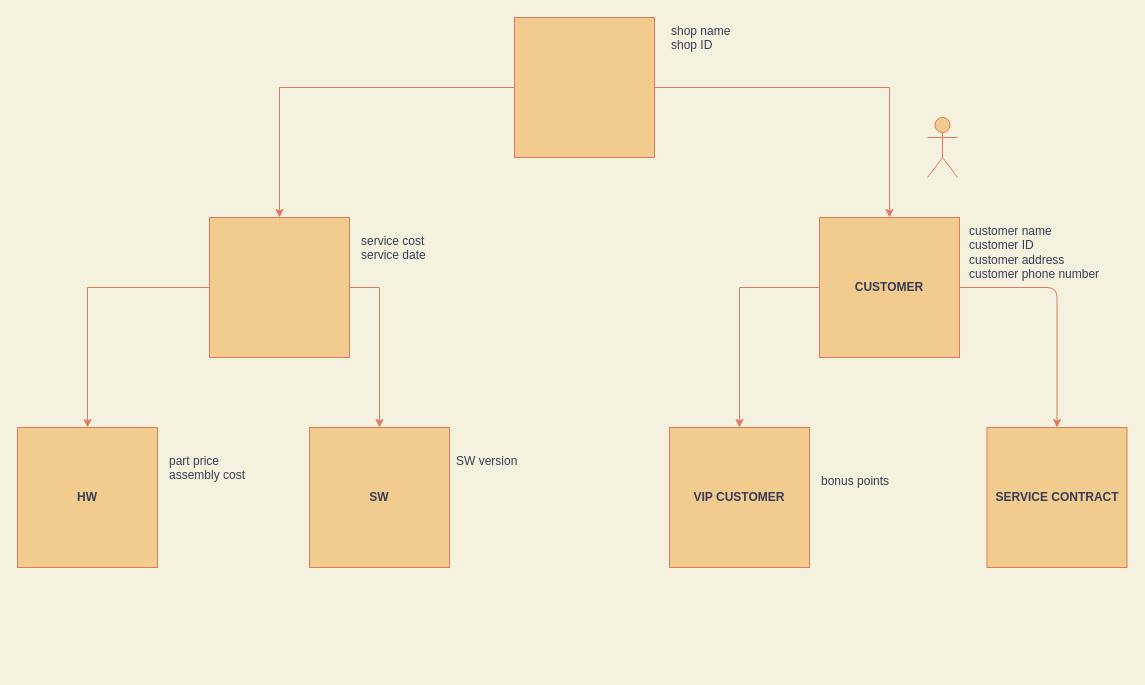
This 1145x685 diagram has some shape labels left out. Each missing label, with the centre of its shape:
Actor: point (942, 147)
SERVICE: point (279, 287)
SHOP: point (584, 87)
